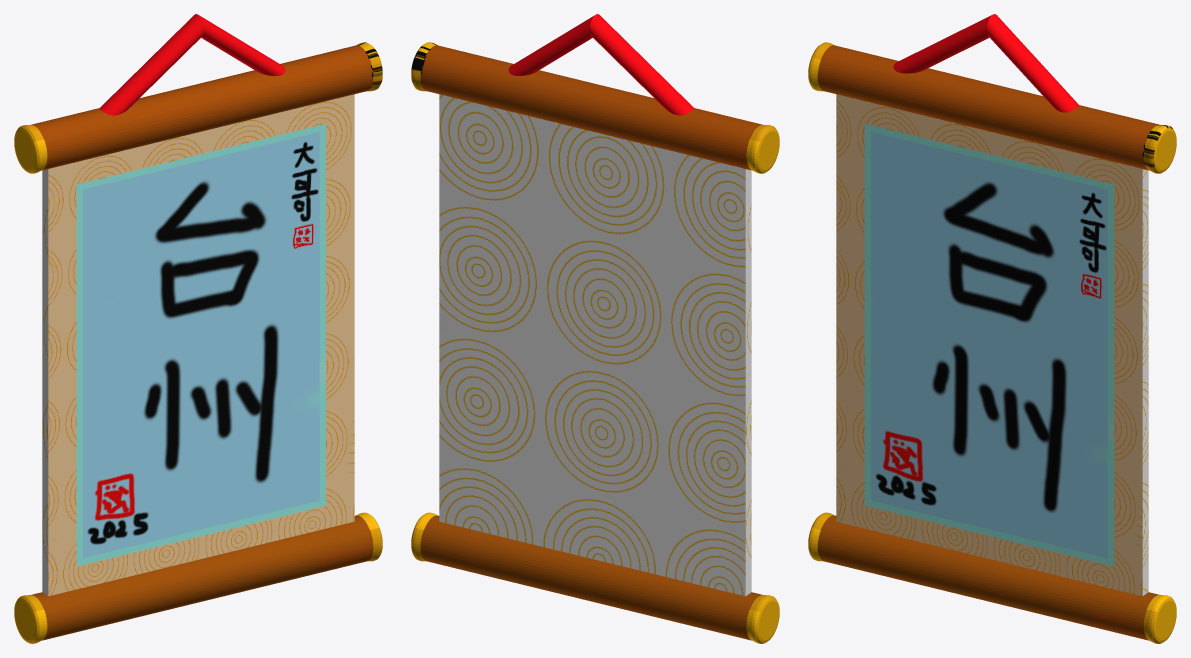
3 views of the same model, side by side, from view 1: azimuth 30°, elevation 25°; view 2: azimuth 150°, elevation 25°; view 3: azimuth 330°, elevation 25° (orthographic).
Visible parts, largest first — view 1: Cube; view 2: Cube; view 3: Cube.
Part boxes in pixels (x1,y1,x2,y2): Cube: (14,14,382,643); Cube: (411,14,779,643); Cube: (808,14,1176,643).
Size of the model in its own units: 1.7 by 2.74 by 0.2102.
2 materials, 1 textured.
